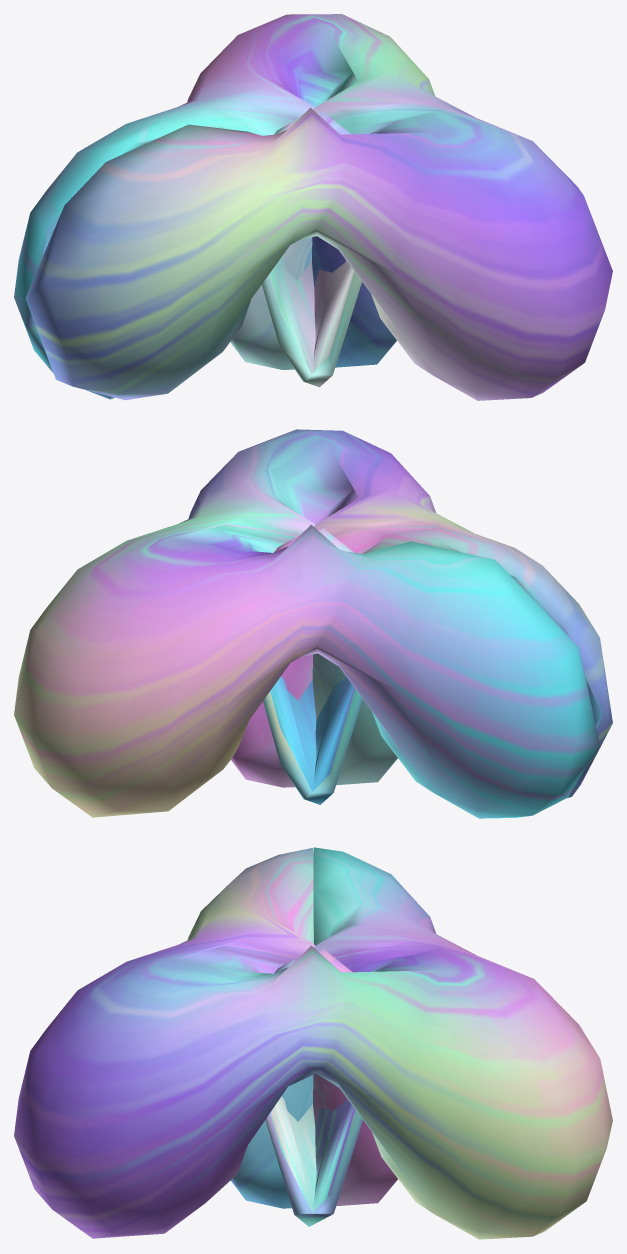
The model's file is randomshape2.glb.
The picture shows the model from 3 angles, top to bottom: view 1: azimuth 30°, elevation 25°; view 2: azimuth 150°, elevation 25°; view 3: azimuth 270°, elevation 25°; orthographic projection.
Visible parts, largest first — view 1: SuperShapesMesh.002; view 2: SuperShapesMesh.002; view 3: SuperShapesMesh.002.
Boxes of the visible parts, bbox=[...] form: SuperShapesMesh.002: bbox=[14, 14, 612, 400]; SuperShapesMesh.002: bbox=[14, 429, 612, 818]; SuperShapesMesh.002: bbox=[14, 847, 612, 1239].
Bounding box in the file's own units: 5.12 × 2.84 × 5.54.
Materials: 1 (1 with a texture image).
